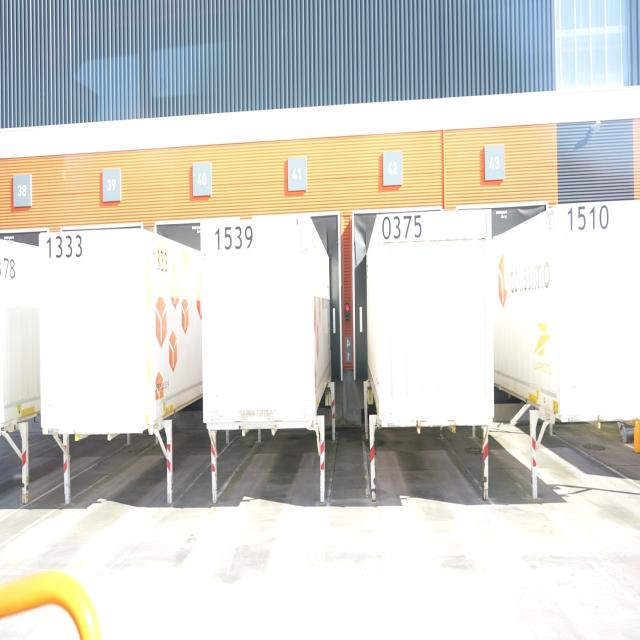Code: (210, 220, 258, 254), (563, 202, 611, 236), (43, 229, 85, 264), (378, 212, 424, 241)
